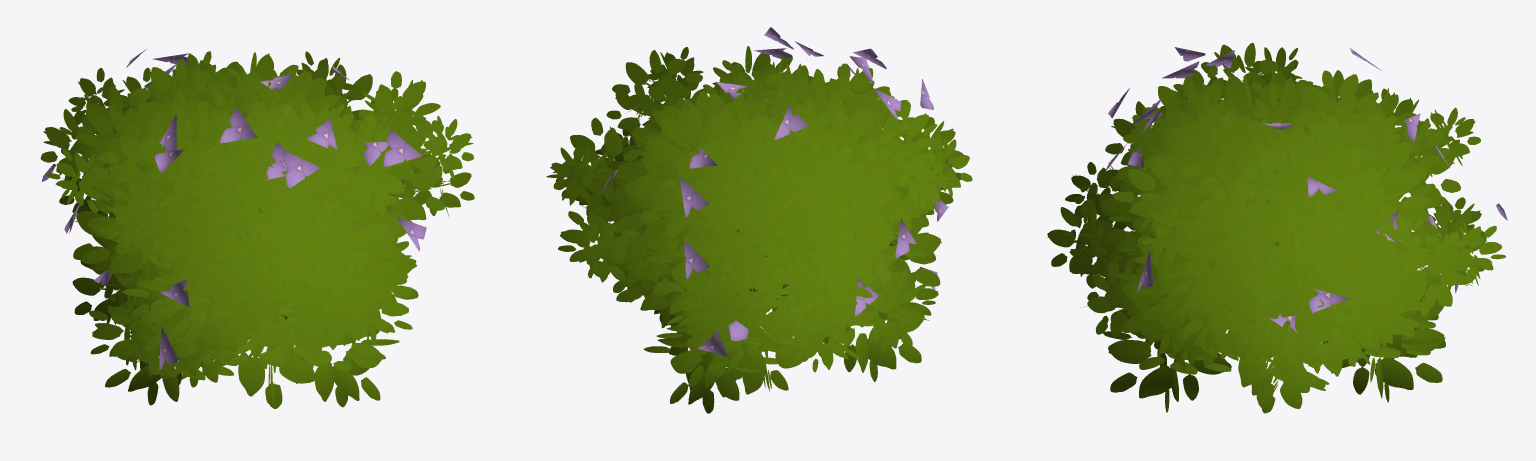
Rendered from Bush_Common_Flowers.low.gltf.
3 views of the same model, side by side, from view 1: azimuth 30°, elevation 25°; view 2: azimuth 150°, elevation 25°; view 3: azimuth 270°, elevation 25° (orthographic). The views are drawn at different scales.
Visible parts, largest first — view 1: Bush_Common_Flowers; view 2: Bush_Common_Flowers; view 3: Bush_Common_Flowers.
Boxes of the visible parts, x1,y1,x2,y2 form: Bush_Common_Flowers: (40,48,474,408); Bush_Common_Flowers: (546,27,972,413); Bush_Common_Flowers: (1047,43,1507,413).
Size of the model in its own units: 1.91 by 1.58 by 1.97.
2 materials, 2 textured.
